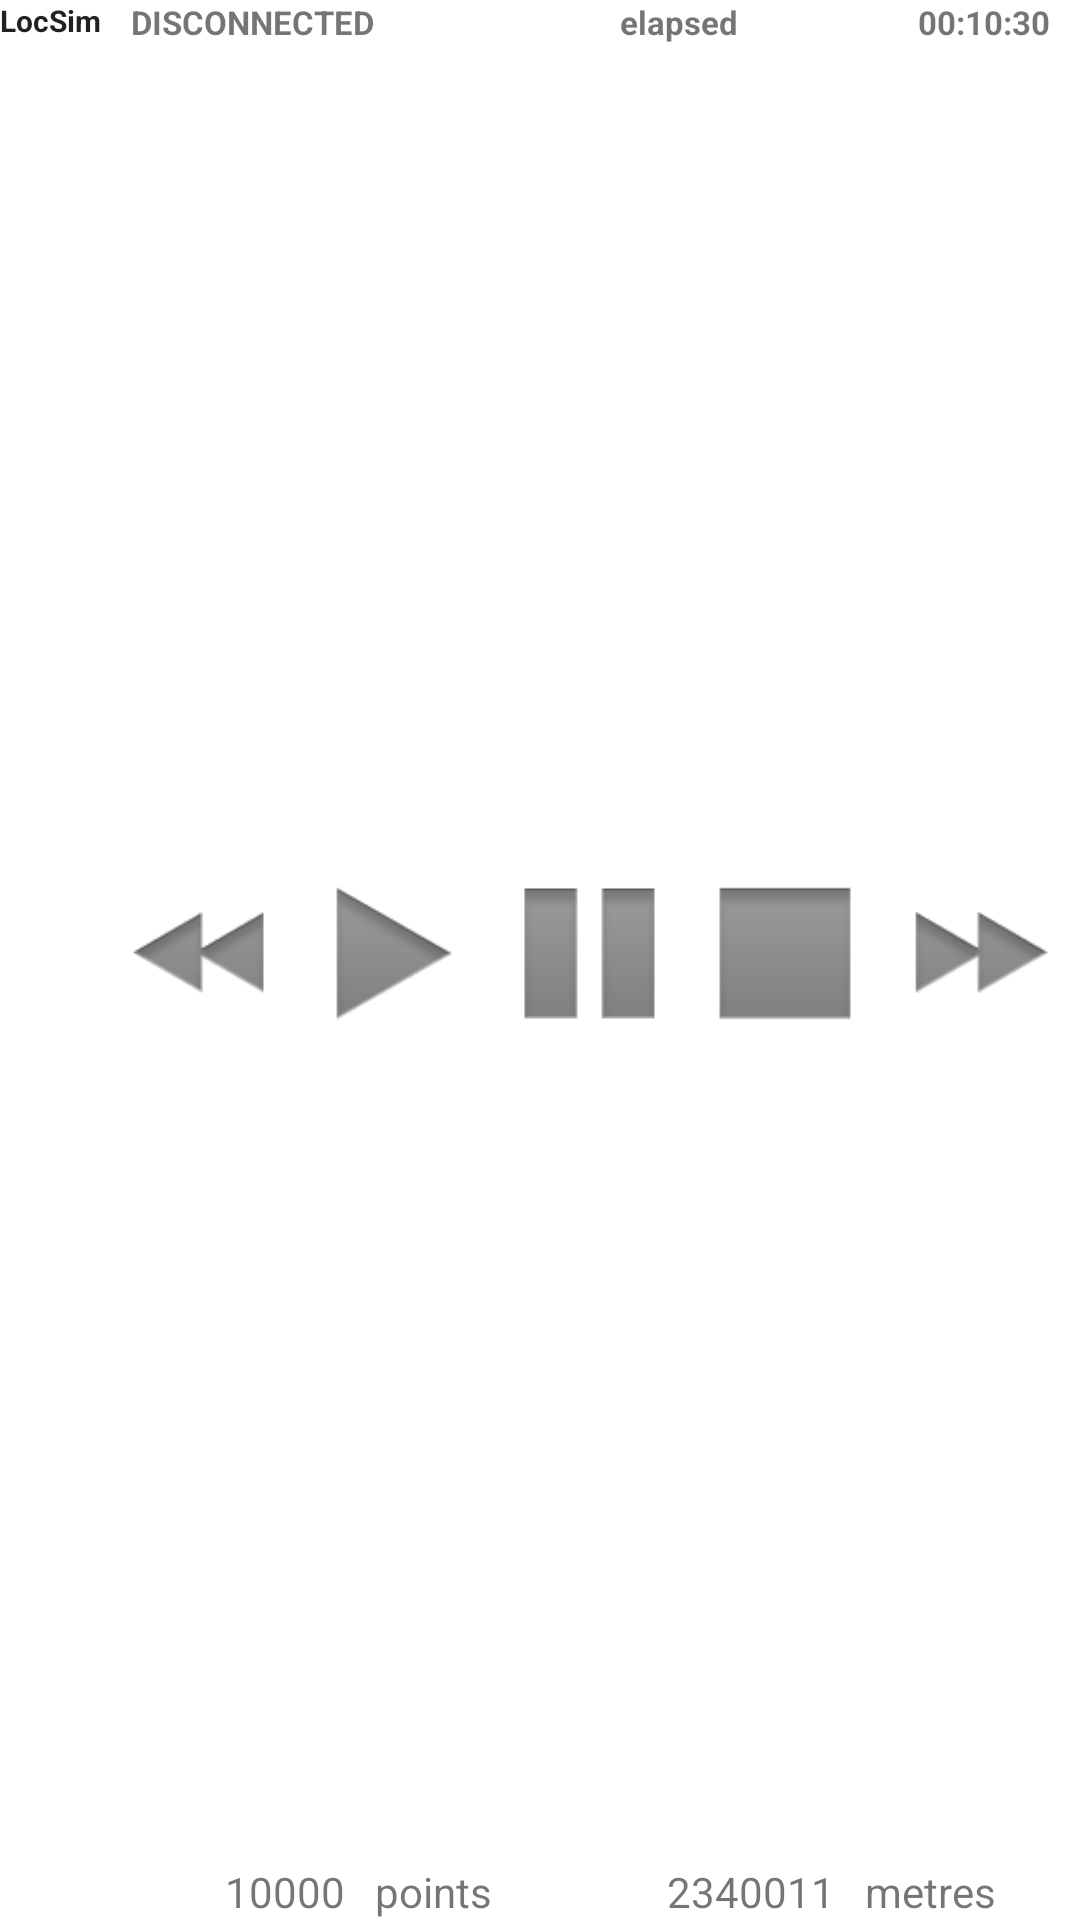

Screen size 1080 × 1920. Icon name, then its box in pixels as (x1, y1, x2, y2):
tran faster: (915, 912, 1048, 993)
tran pause: (524, 888, 655, 1019)
tran slower: (133, 912, 264, 992)
tran start: (336, 888, 451, 1019)
tran stop: (719, 887, 851, 1019)
